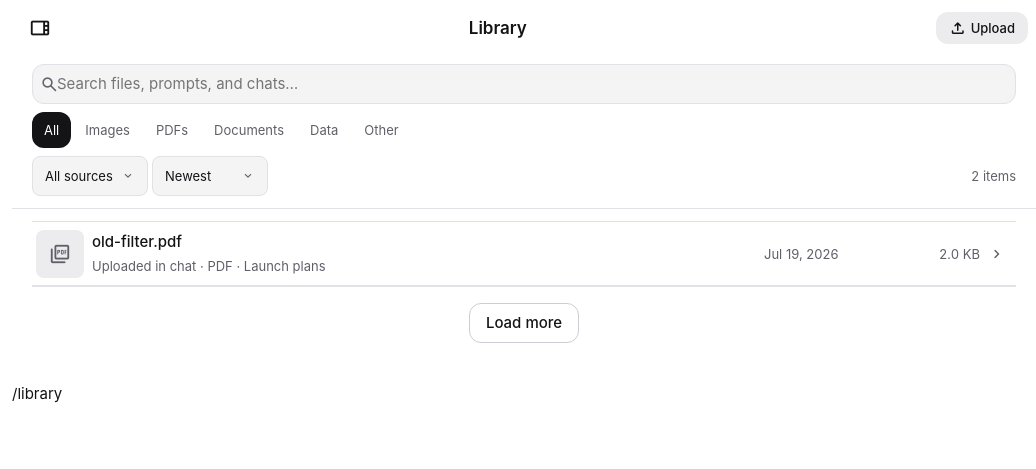
Test: LibraryView › does not append an old pagination response after the filter changes
The width and height of the screenshot is (1036, 469).
expect the text "old-filter.pdf" is shown: met, box [92,232,182,250]
Click the button "Load more". click: coordinates (524, 323)
box: [469,303,579,343]
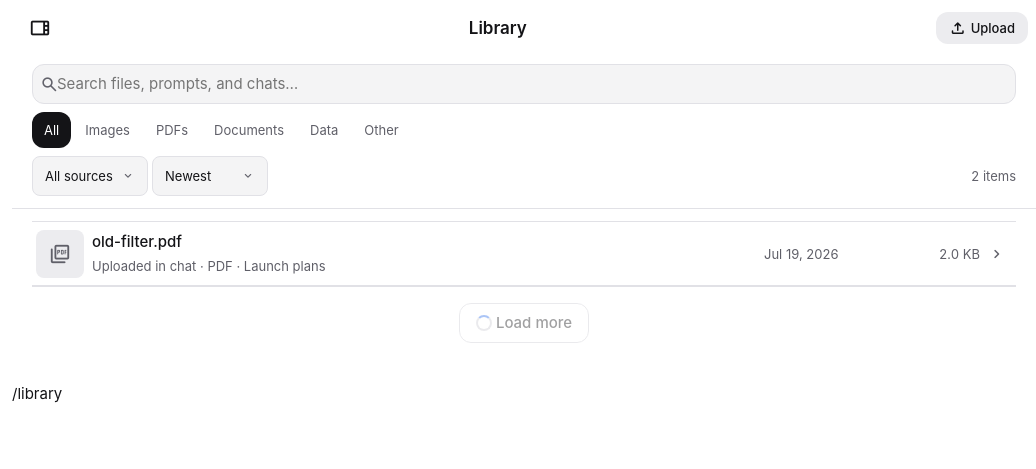
Click the tab "Images". click: coordinates (108, 130)
box: [73,112,142,148]
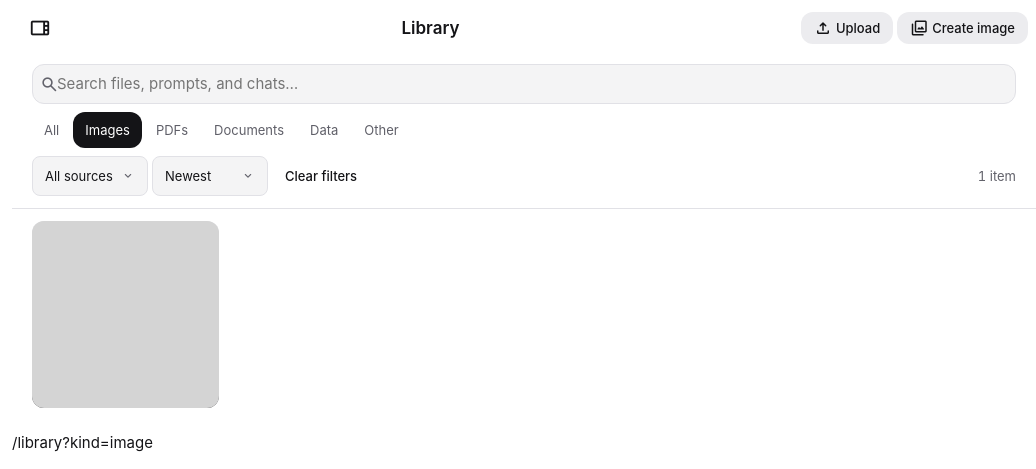
expect the button "old-filter.pdf" is gone: met
